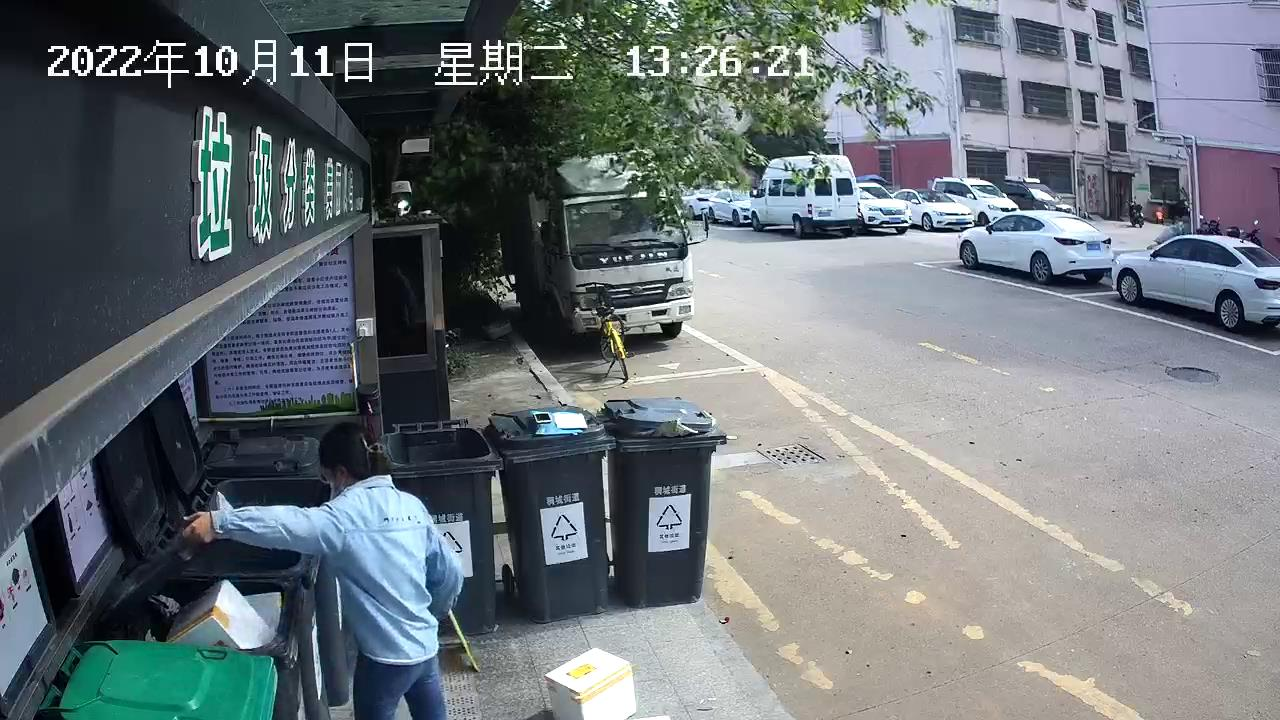person: (179, 414, 474, 720)
worker: (175, 417, 476, 720)
zhizhipin: (171, 414, 471, 720), (540, 643, 645, 720)
